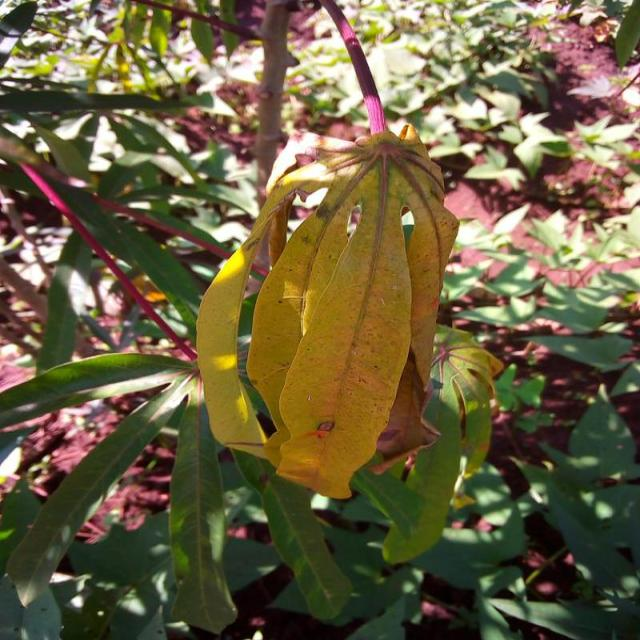cassava leaf: (195, 122, 460, 500)
